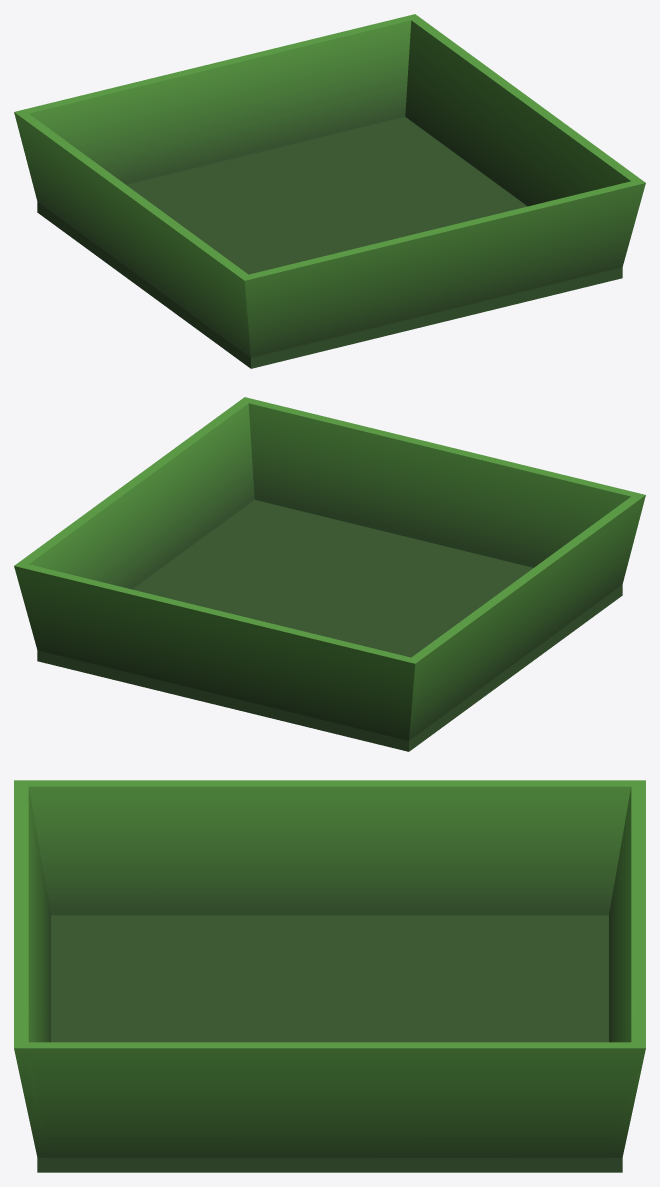
Rendered from MSH_Escenario.fbx.
3 renders of one model, top to bottom at view 1: azimuth 30°, elevation 25°; view 2: azimuth 150°, elevation 25°; view 3: azimuth 270°, elevation 25°, orthographic. The views are drawn at different scales.
Visible parts, largest first — view 1: MSH_Escenario; view 2: MSH_Escenario; view 3: MSH_Escenario.
Boxes of the visible parts, x1=… form: MSH_Escenario: x1=14, y1=14, x2=645, y2=368; MSH_Escenario: x1=14, y1=397, x2=645, y2=751; MSH_Escenario: x1=14, y1=780, x2=645, y2=1172.
Bounding box in the file's own units: 1929 × 450 × 1921.
